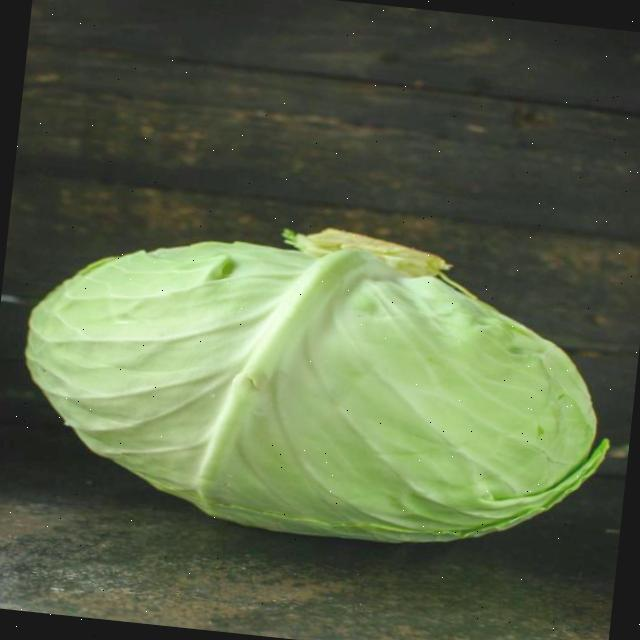cabbage: (0, 195, 633, 572)
